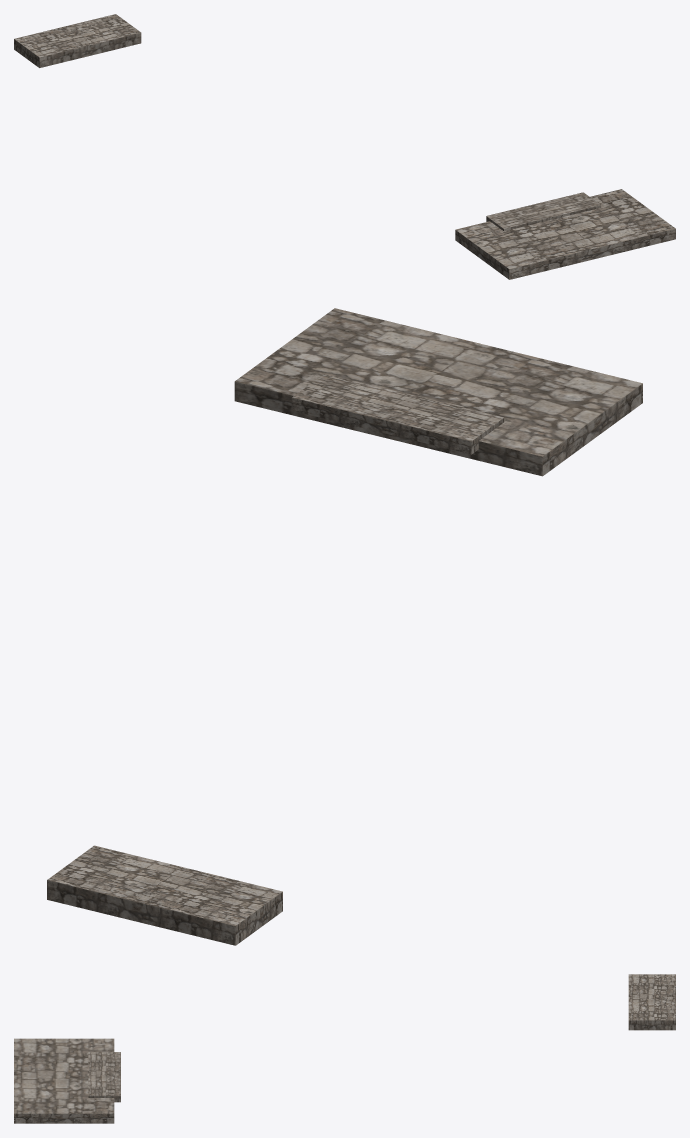
File: BW_Farmhouse01_Steps.fbx
3 views of the same model, one above another, from view 1: azimuth 30°, elevation 25°; view 2: azimuth 150°, elevation 25°; view 3: azimuth 270°, elevation 25° (orthographic). The views are drawn at different scales.
Parts seen in each view (by area): view 1: BW_Farmhouse01_Steps; view 2: BW_Farmhouse01_Steps; view 3: BW_Farmhouse01_Steps.
Part boxes in pixels (x1,y1,x2,y2): BW_Farmhouse01_Steps: (14, 14, 675, 279); BW_Farmhouse01_Steps: (47, 308, 642, 945); BW_Farmhouse01_Steps: (14, 974, 675, 1123).
Size of the model in its own units: 4.47 by 0.185 by 9.12.
